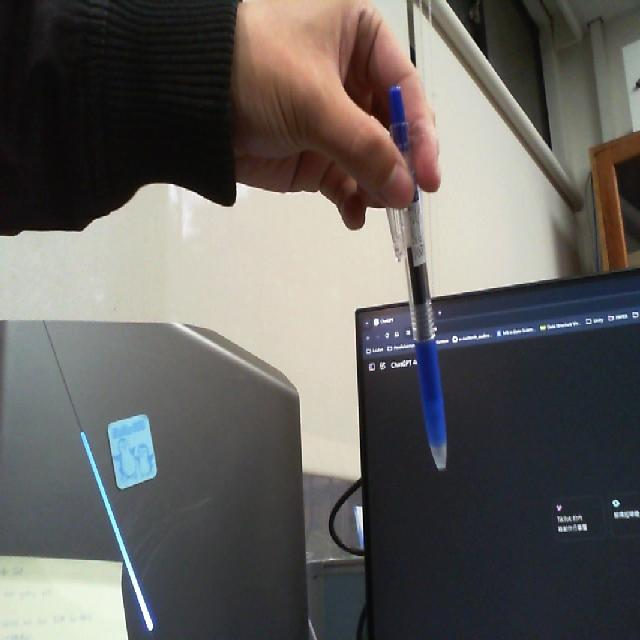Pen: (371, 73, 462, 490)
